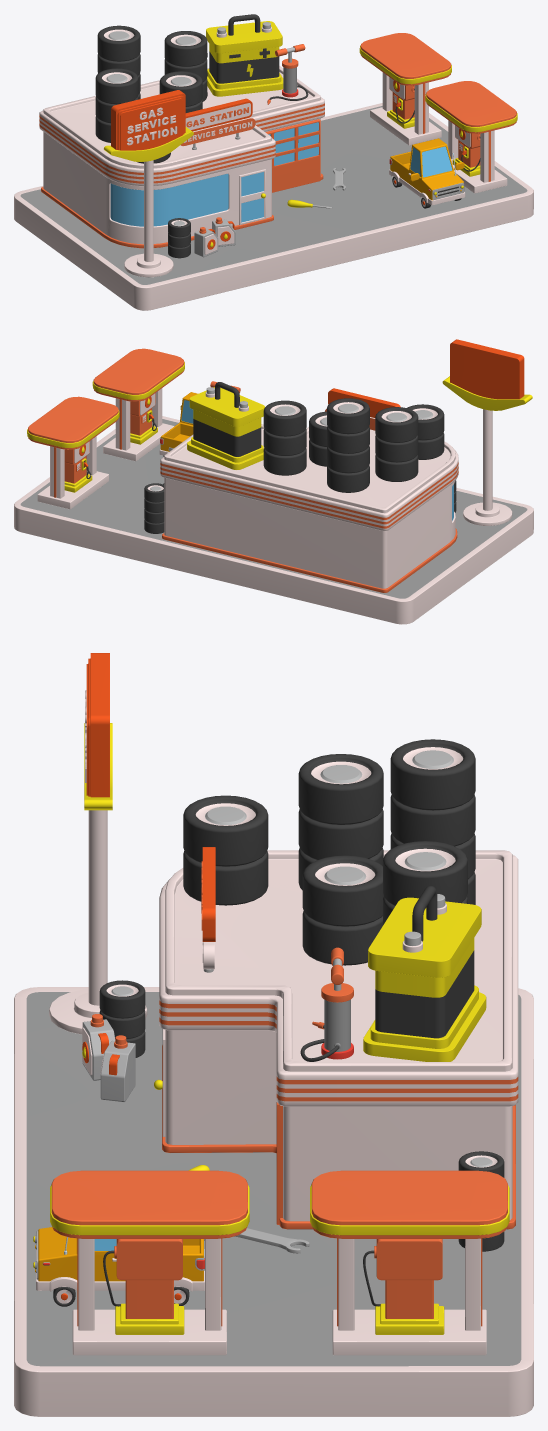
Rendered from Public_Island_5.glb.
The picture shows the model from 3 angles, top to bottom: view 1: azimuth 30°, elevation 25°; view 2: azimuth 150°, elevation 25°; view 3: azimuth 270°, elevation 25°; orthographic projection. The views are drawn at different scales.
Parts seen in each view (by area): view 1: Public_5_Base_1, Public_5_Gas_Station_Building_1, Public_5_Gas_Sign_1, Public_5_Gas_Station_1, Public_5_Gas_Station_2, Public_5_Isl_Car_Battery_1, Public_5_Car_1, Public_5_Gas_Servise_Sign_1, Public_5_Wheel_4, Public_5_Wheel_7, Public_5_Wheel_8, Public_5_Wheel_12 (+7 smaller); view 2: Public_5_Gas_Station_Building_1, Public_5_Base_1, Public_5_Gas_Sign_1, Public_5_Gas_Station_1, Public_5_Gas_Station_2, Public_5_Isl_Car_Battery_1, Public_5_Wheel_8, Public_5_Wheel_7, Public_5_Wheel_4, Public_5_Car_1, Public_5_Wheel_14, Public_5_Wheel_10 (+11 smaller); view 3: Public_5_Base_1, Public_5_Gas_Station_Building_1, Public_5_Gas_Station_1, Public_5_Gas_Station_2, Public_5_Isl_Car_Battery_1, Public_5_Gas_Sign_1, Public_5_Car_1, Public_5_Wheel_4, Public_5_Wheel_7, Public_5_Wheel_12, Public_5_Wheel_14, Public_5_Wheel_8 (+10 smaller).
Boxes of the visible parts, x1,y1,x2,y2 form: Public_5_Base_1: [14, 103, 533, 310]; Public_5_Gas_Station_Building_1: [39, 66, 324, 248]; Public_5_Gas_Sign_1: [104, 90, 193, 277]; Public_5_Gas_Station_1: [359, 33, 451, 145]; Public_5_Gas_Station_2: [425, 81, 517, 193]; Public_5_Isl_Car_Battery_1: [206, 14, 283, 96]; Public_5_Car_1: [389, 138, 465, 208]; Public_5_Gas_Servise_Sign_1: [185, 98, 252, 149]; Public_5_Wheel_4: [97, 25, 140, 61]; Public_5_Wheel_7: [95, 68, 138, 104]; Public_5_Wheel_8: [164, 31, 207, 66]; Public_5_Wheel_12: [159, 71, 202, 106]; Public_5_Gas_Station_Building_1: [160, 424, 458, 592]; Public_5_Base_1: [14, 416, 533, 624]; Public_5_Gas_Sign_1: [442, 339, 532, 525]; Public_5_Gas_Station_1: [27, 396, 119, 509]; Public_5_Gas_Station_2: [92, 348, 184, 461]; Public_5_Isl_Car_Battery_1: [187, 382, 264, 469]; Public_5_Wheel_8: [263, 400, 306, 436]; Public_5_Wheel_7: [375, 407, 418, 442]; Public_5_Wheel_4: [327, 398, 369, 434]; Public_5_Car_1: [159, 392, 197, 456]; Public_5_Wheel_14: [407, 404, 444, 440]; Public_5_Wheel_10: [263, 448, 306, 475]; Public_5_Base_1: [14, 987, 533, 1416]; Public_5_Gas_Station_Building_1: [154, 850, 518, 1229]; Public_5_Gas_Station_1: [310, 1170, 509, 1355]; Public_5_Gas_Station_2: [50, 1170, 249, 1355]; Public_5_Isl_Car_Battery_1: [363, 886, 486, 1061]; Public_5_Gas_Sign_1: [49, 653, 147, 1034]; Public_5_Car_1: [33, 1227, 204, 1306]; Public_5_Wheel_4: [390, 739, 475, 810]; Public_5_Wheel_7: [298, 754, 383, 824]; Public_5_Wheel_12: [302, 855, 383, 926]; Public_5_Wheel_14: [183, 795, 268, 866]; Public_5_Wheel_8: [383, 841, 467, 905].
Size of the model in its own units: 22.52 by 9.98 by 12.48.
38 materials, 38 textured.
